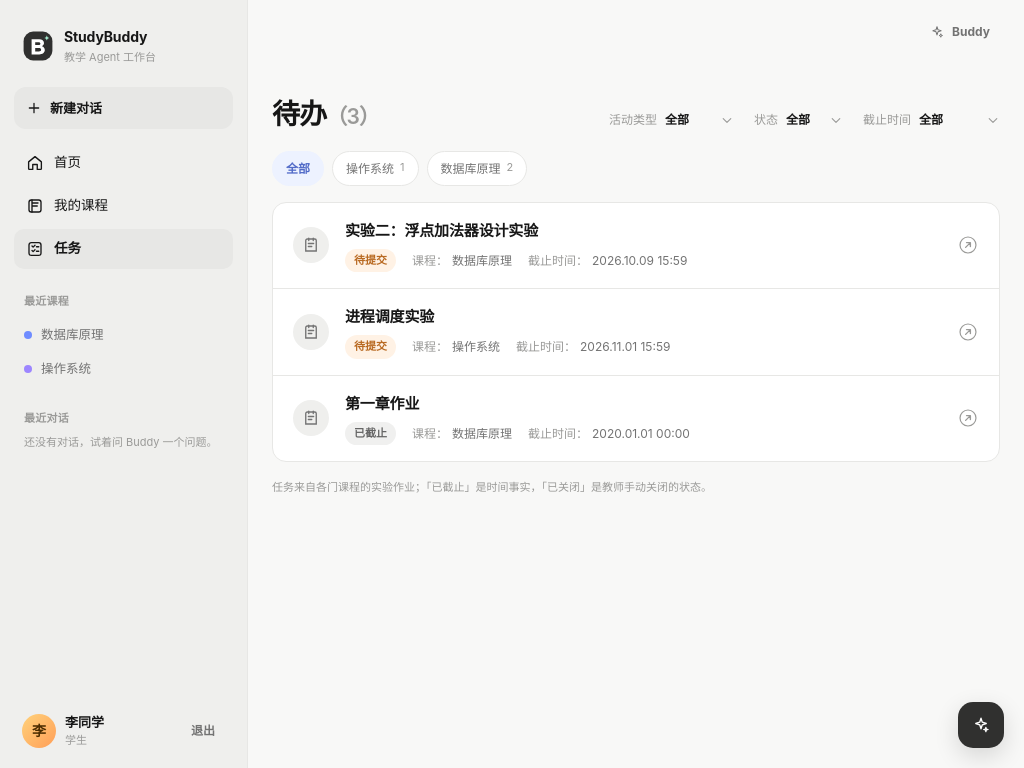
Test: 任务页 › 截止时间筛选只剩已逾期的任务
Expected: the text "实验二：浮点加法器设计实验" is shown, [345,221,538,240]
Select "已逾期" in the dropdown labelled "截止时间" at coordinates (960, 120), box [919,105,1000,135]
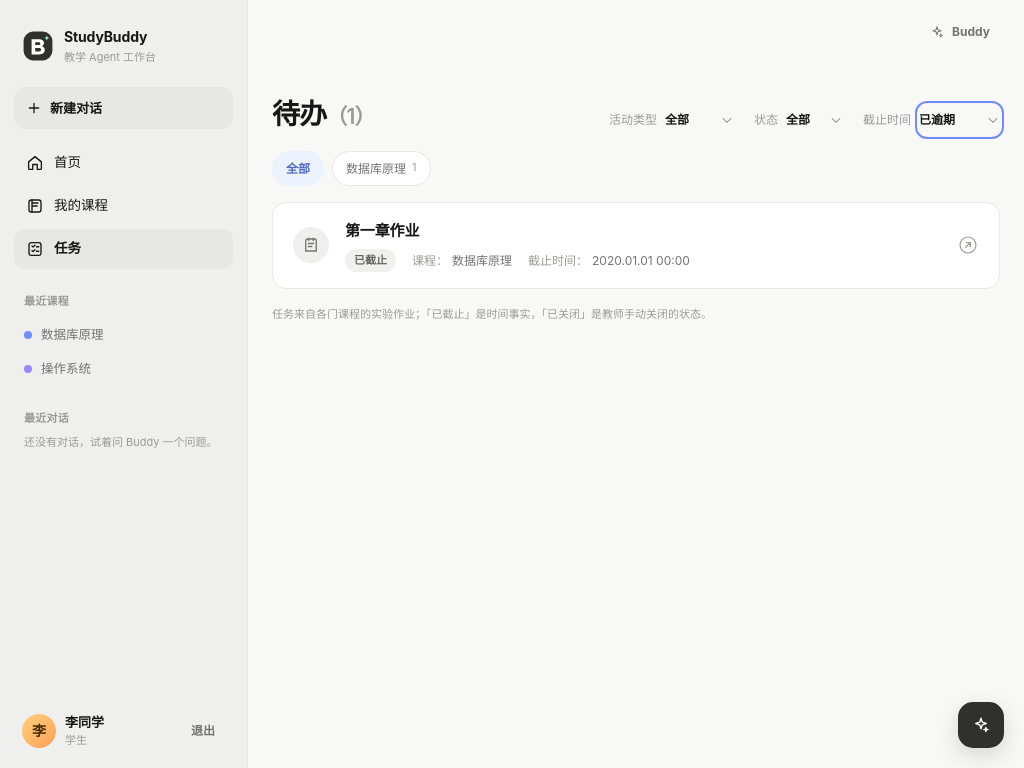
Expected: the text "第一章作业" is shown, [345,221,419,240]
Expected: the link "实验二：浮点加法器设计实验" is gone
Expected: the link "进程调度实验" is gone
